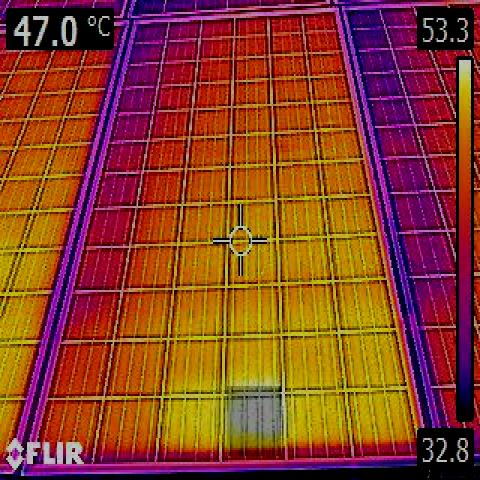fault: (227, 386, 282, 456)
